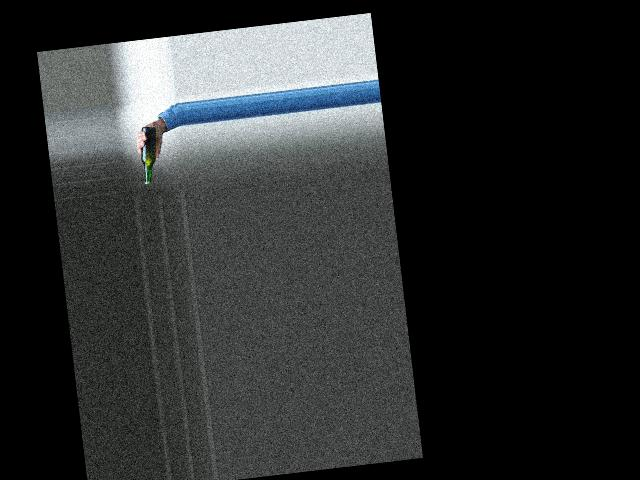beer: (137, 126, 162, 184)
